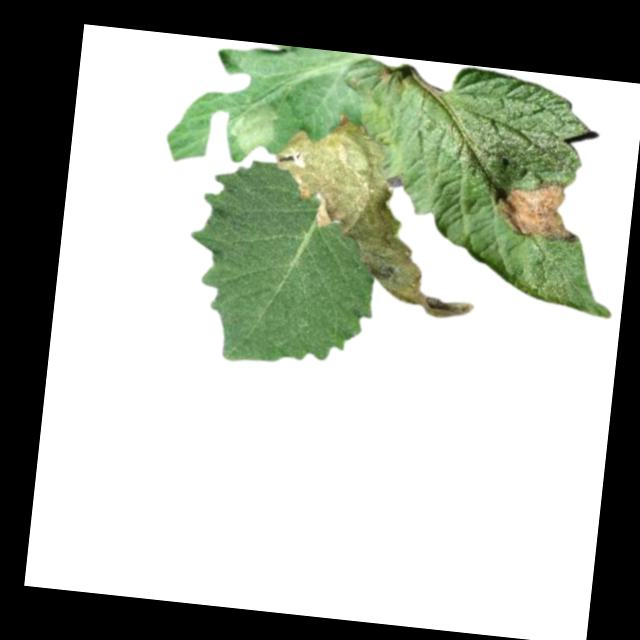Late_blight: (261, 108, 495, 321), (489, 174, 583, 242), (223, 96, 276, 157)
healthy: (180, 154, 387, 375)
